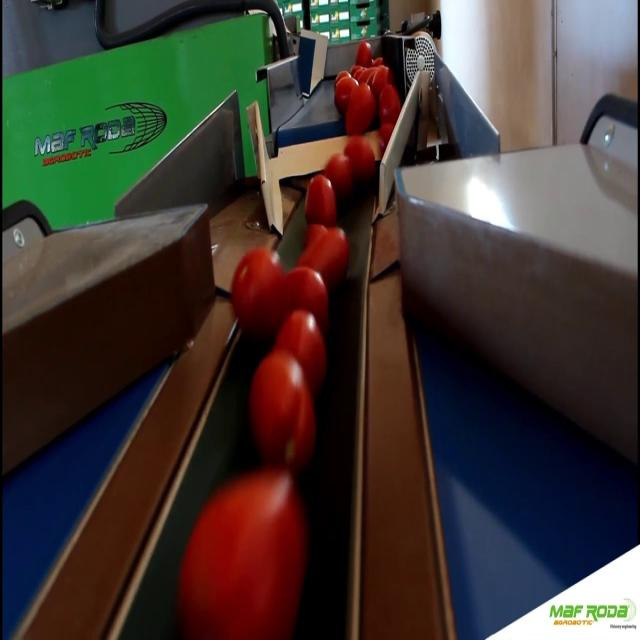Tomato: (176, 482, 310, 640), (251, 350, 313, 464), (279, 306, 329, 386), (228, 243, 278, 319), (302, 229, 350, 288), (280, 264, 328, 312), (301, 173, 339, 227), (338, 136, 380, 183), (344, 84, 374, 132), (379, 84, 404, 120), (325, 153, 348, 192), (334, 78, 357, 104), (354, 37, 374, 62), (373, 64, 389, 92), (379, 124, 392, 146)
